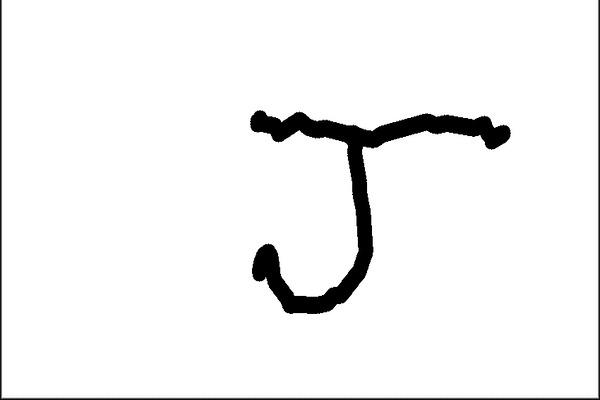J: (236, 100, 514, 325)
